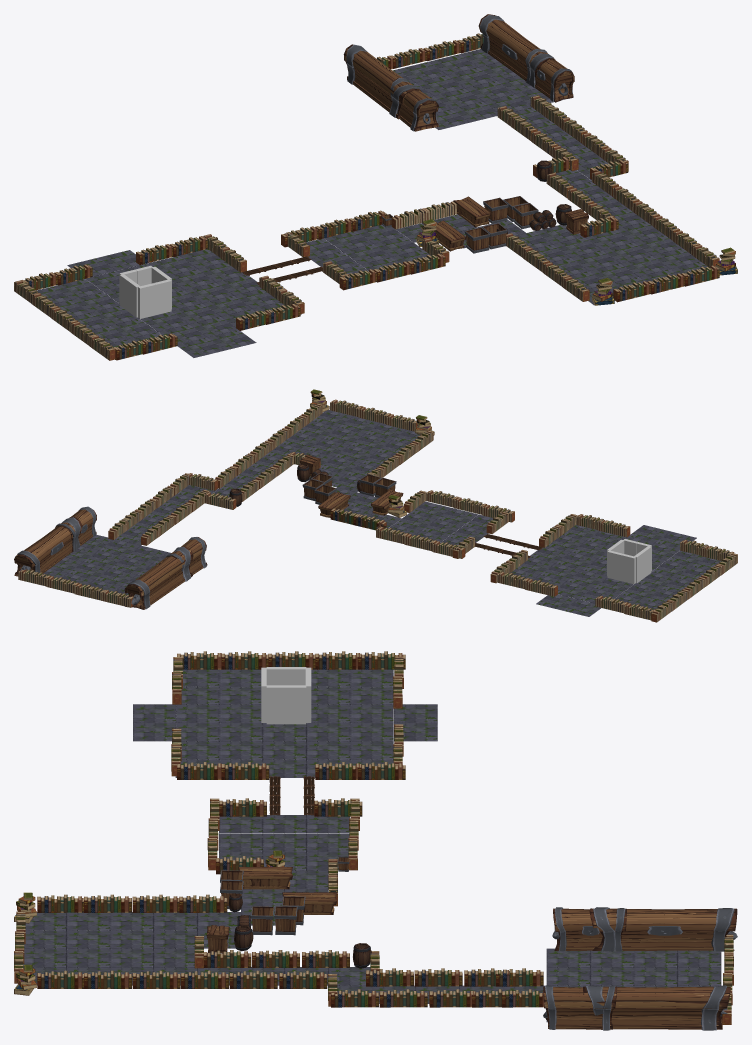
The model's file is MyMap.fbx.
The picture shows the model from 3 angles, top to bottom: view 1: azimuth 30°, elevation 25°; view 2: azimuth 150°, elevation 25°; view 3: azimuth 270°, elevation 25°; orthographic projection. The views are drawn at different scales.
Parts seen in each view (by area): view 1: SM_PROP_chest_top_dungeon_02_3, SM_PROP_chest_top_dungeon_02_2, SM_PROP_chest_dungeon_02 (3), SM_PROP_chest_dungeon_02 (1), SM_PROP_chest_top_dungeon_02, SM_PROP_chest_top_dungeon_02_1, SM_PROP_box_dungeon_07, SM_PROP_chest_dungeon_02, SM_PROP_chest_dungeon_02 (2), SM_PROP_box_dungeon_07 (1), MOD_Wall_01_E_straight_med_half_L, MOD_Floor_01_O_straight_med (78) (+27 smaller); view 2: SM_PROP_chest_top_dungeon_02_3, SM_PROP_chest_top_dungeon_02_2, SM_PROP_chest_dungeon_02 (3), SM_PROP_chest_dungeon_02 (1), SM_PROP_chest_top_dungeon_02, SM_PROP_box_dungeon_07, MOD_Wall_01_E_straight_med_half_L (4), MOD_Floor_01_O_straight_med (13), MOD_Floor_01_O_straight_med (41), MOD_Floor_01_O_straight_med (47), MOD_Floor_01_O_straight_med (24), MOD_Floor_01_O_straight_med (11) (+32 smaller); view 3: SM_PROP_chest_top_dungeon_02_2, SM_PROP_chest_top_dungeon_02_3, SM_PROP_chest_dungeon_02 (1), SM_PROP_chest_dungeon_02 (3), SM_PROP_chest_dungeon_02, SM_PROP_chest_top_dungeon_02, SM_PROP_chest_top_dungeon_02_1, SM_PROP_box_dungeon_07 (1), SM_PROP_chest_dungeon_02 (2), MOD_Wall_01_E_straight_med_half_L (2), MOD_Floor_01_O_straight_med (1), MOD_Floor_01_O_straight_med (15) (+89 smaller).
Part boxes in pixels (bbox=[...]): SM_PROP_chest_top_dungeon_02_3: bbox=[478, 14, 555, 72]; SM_PROP_chest_top_dungeon_02_2: bbox=[343, 44, 421, 103]; SM_PROP_chest_dungeon_02 (3): bbox=[345, 61, 401, 119]; SM_PROP_chest_dungeon_02 (1): bbox=[481, 34, 537, 88]; SM_PROP_chest_top_dungeon_02: bbox=[525, 48, 574, 86]; SM_PROP_chest_top_dungeon_02_1: bbox=[390, 78, 438, 115]; SM_PROP_box_dungeon_07: bbox=[453, 196, 491, 227]; SM_PROP_chest_dungeon_02: bbox=[525, 67, 573, 102]; SM_PROP_chest_dungeon_02 (2): bbox=[390, 95, 438, 131]; SM_PROP_box_dungeon_07 (1): bbox=[434, 220, 466, 251]; MOD_Wall_01_E_straight_med_half_L: bbox=[138, 283, 155, 318]; MOD_Floor_01_O_straight_med (78): bbox=[185, 282, 233, 303]; SM_PROP_chest_top_dungeon_02_3: bbox=[14, 517, 82, 567]; SM_PROP_chest_top_dungeon_02_2: bbox=[124, 546, 193, 597]; SM_PROP_chest_dungeon_02 (3): bbox=[125, 562, 192, 609]; SM_PROP_chest_dungeon_02 (1): bbox=[14, 532, 80, 576]; SM_PROP_chest_top_dungeon_02: bbox=[55, 506, 96, 538]; SM_PROP_box_dungeon_07: bbox=[318, 492, 350, 517]; MOD_Wall_01_E_straight_med_half_L (4): bbox=[620, 554, 635, 584]; MOD_Floor_01_O_straight_med (13): bbox=[334, 445, 376, 462]; MOD_Floor_01_O_straight_med (41): bbox=[83, 550, 124, 567]; MOD_Floor_01_O_straight_med (47): bbox=[99, 539, 140, 556]; MOD_Floor_01_O_straight_med (24): bbox=[421, 519, 462, 536]; MOD_Floor_01_O_straight_med (11): bbox=[320, 456, 360, 474]; SM_PROP_chest_top_dungeon_02_2: bbox=[589, 907, 737, 935]; SM_PROP_chest_top_dungeon_02_3: bbox=[583, 985, 730, 1008]; SM_PROP_chest_dungeon_02 (1): bbox=[593, 1008, 727, 1030]; SM_PROP_chest_dungeon_02 (3): bbox=[592, 931, 737, 951]; SM_PROP_chest_dungeon_02: bbox=[543, 1008, 613, 1030]; SM_PROP_chest_top_dungeon_02: bbox=[543, 985, 617, 1008]; SM_PROP_chest_top_dungeon_02_1: bbox=[553, 907, 626, 935]; SM_PROP_box_dungeon_07 (1): bbox=[238, 867, 292, 889]; SM_PROP_chest_dungeon_02 (2): bbox=[552, 928, 623, 951]; MOD_Wall_01_E_straight_med_half_L (2): bbox=[284, 685, 306, 724]; MOD_Floor_01_O_straight_med (1): bbox=[66, 948, 109, 967]; MOD_Floor_01_O_straight_med (15): bbox=[110, 948, 153, 967].
Size of the model in its own units: 7903 by 383 by 6634.
